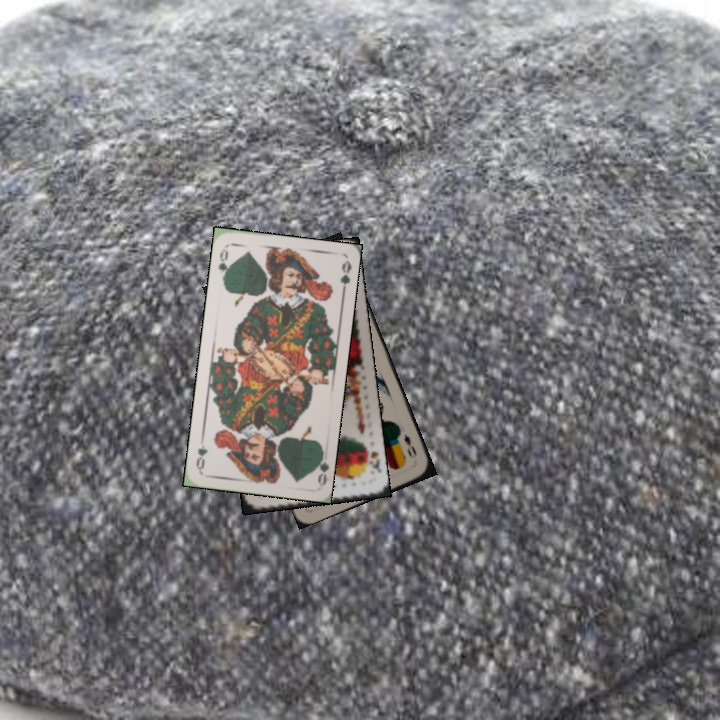EO: (400, 430, 419, 461)
GO: (310, 445, 331, 486), (214, 243, 233, 284)
SK: (360, 442, 383, 475)
